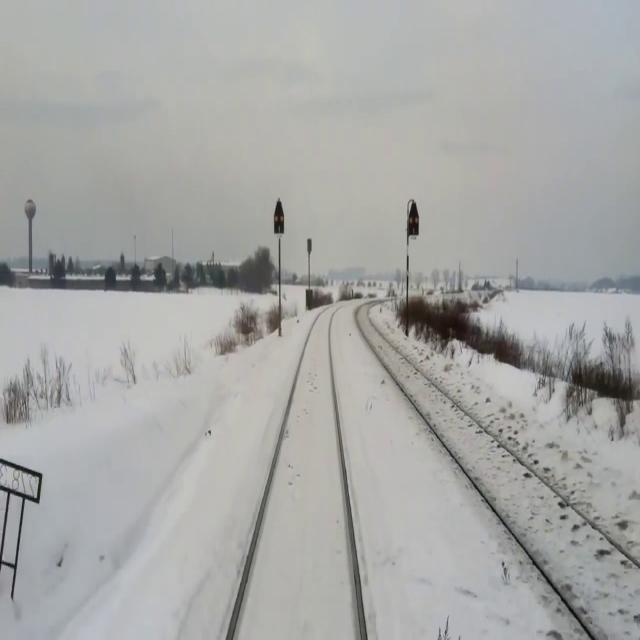rail-track: (357, 305, 640, 639), (231, 304, 361, 639)
